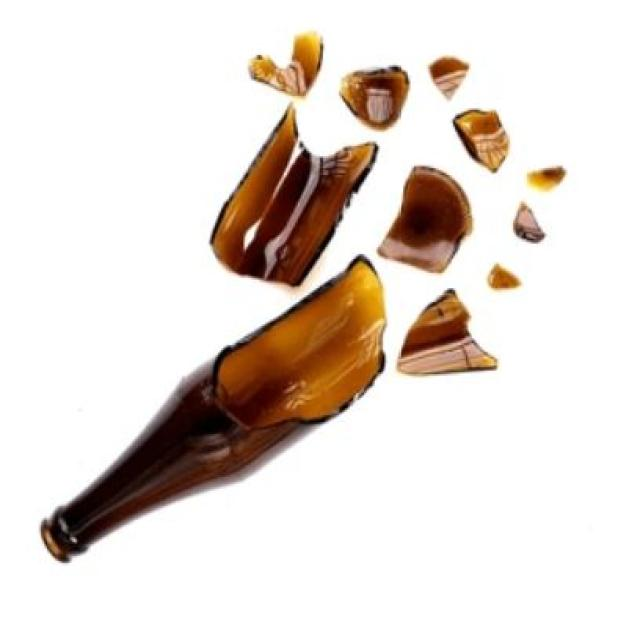electronic: (38, 30, 567, 569)
